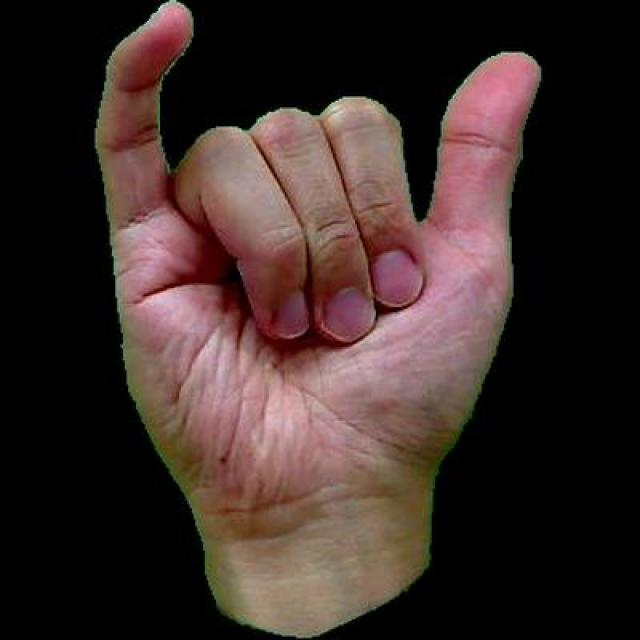y: (74, 0, 562, 637)
